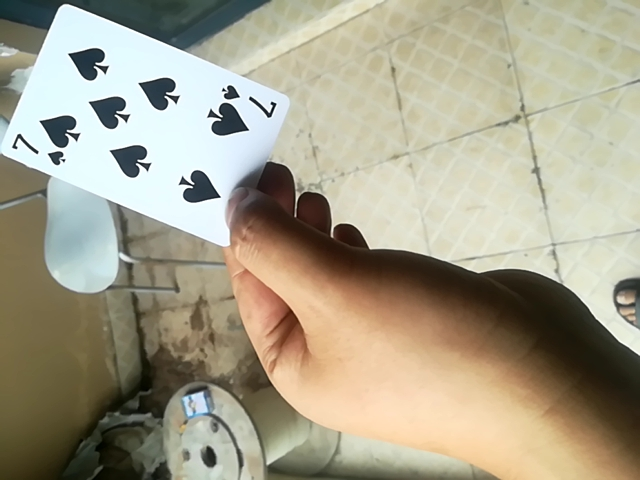ht 7: (2, 2, 297, 257)
